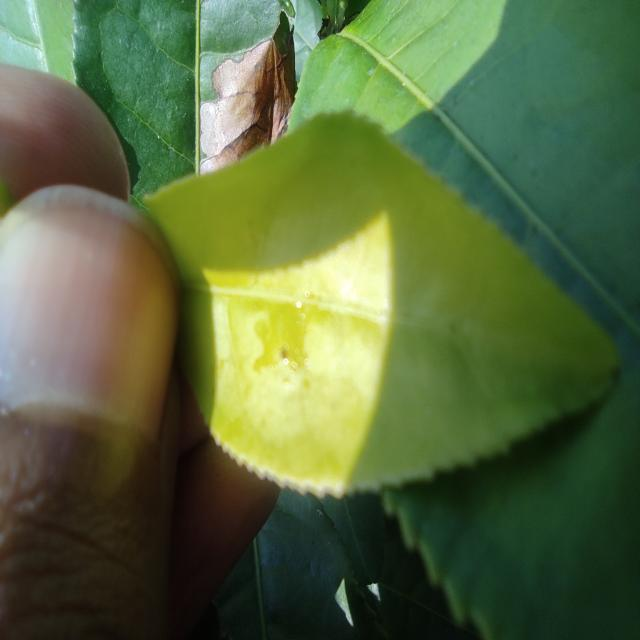Category C(4-7 days): (101, 78, 628, 507)
